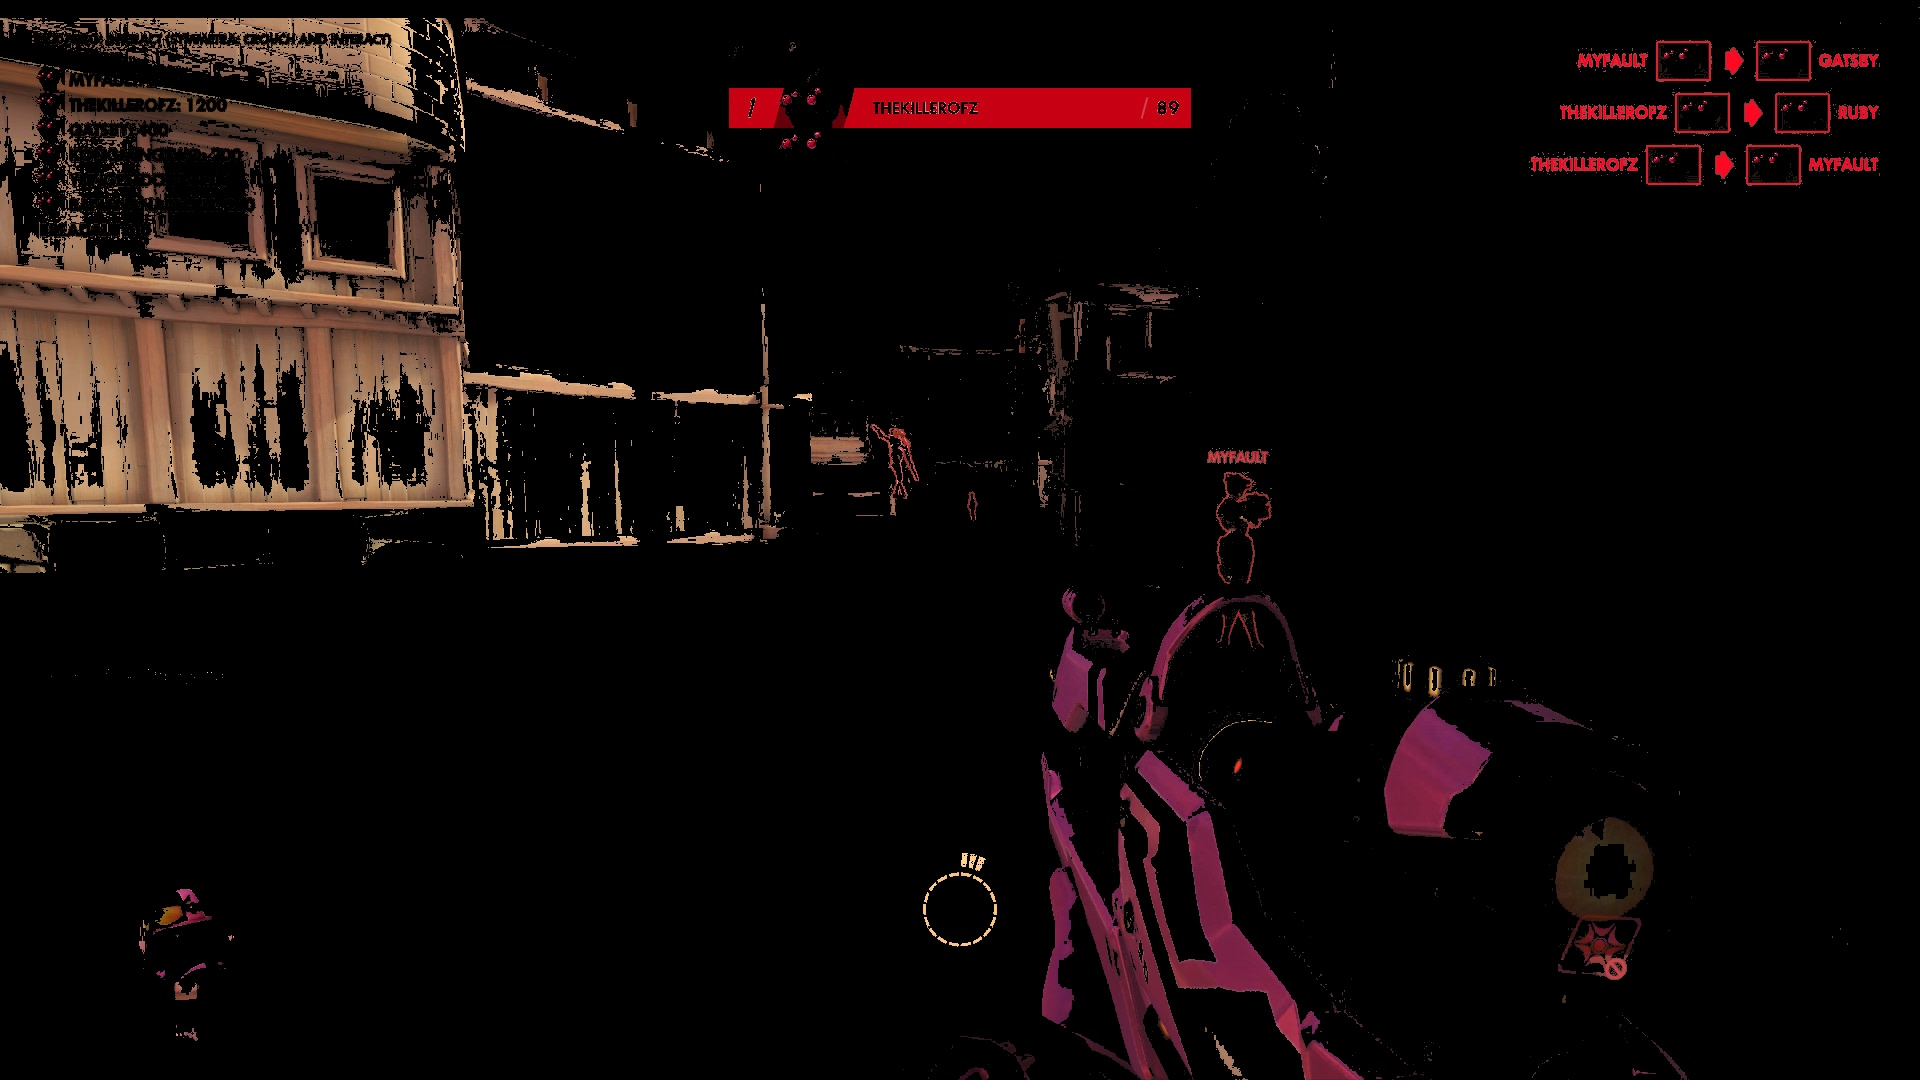widowmaker: (1211, 463, 1276, 676), (872, 421, 916, 517), (963, 489, 981, 527)
